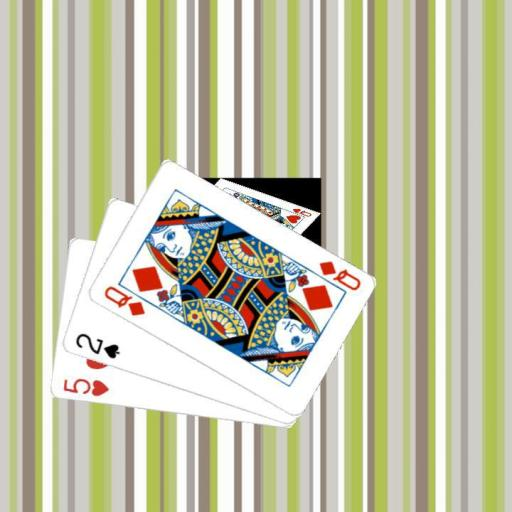2S: (72, 330, 121, 360)
5H: (60, 376, 110, 399)
QD: (101, 282, 147, 318), (315, 258, 362, 293)
